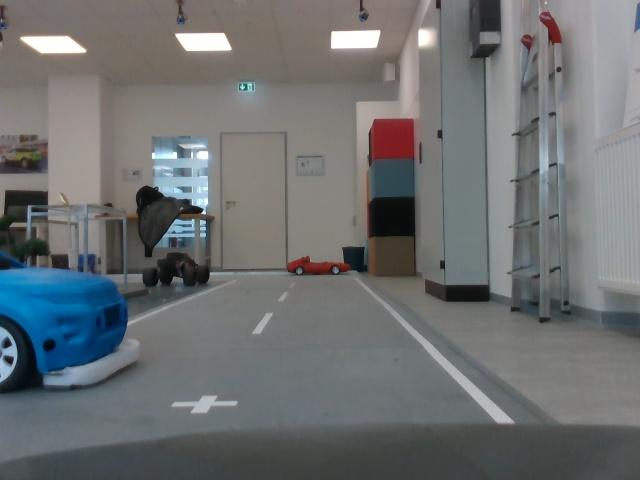car: (2, 233, 149, 394), (146, 252, 217, 288), (291, 256, 355, 281)
potted plant: (1, 213, 53, 264)
